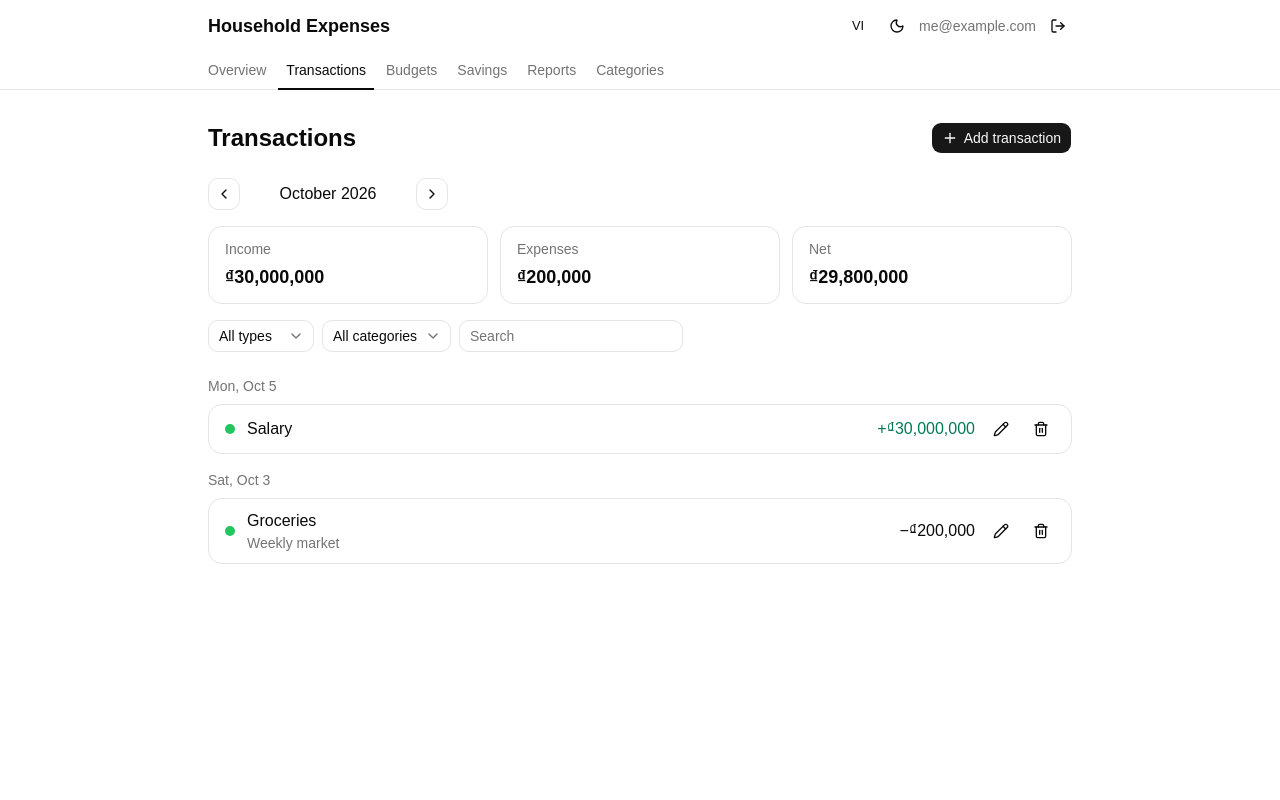
it: changing a transaction › prefills the form and saves changes
The image size is (1280, 800).
Click the button named "Edit Groceries" at [1001, 531], box [987,517,1015,545]
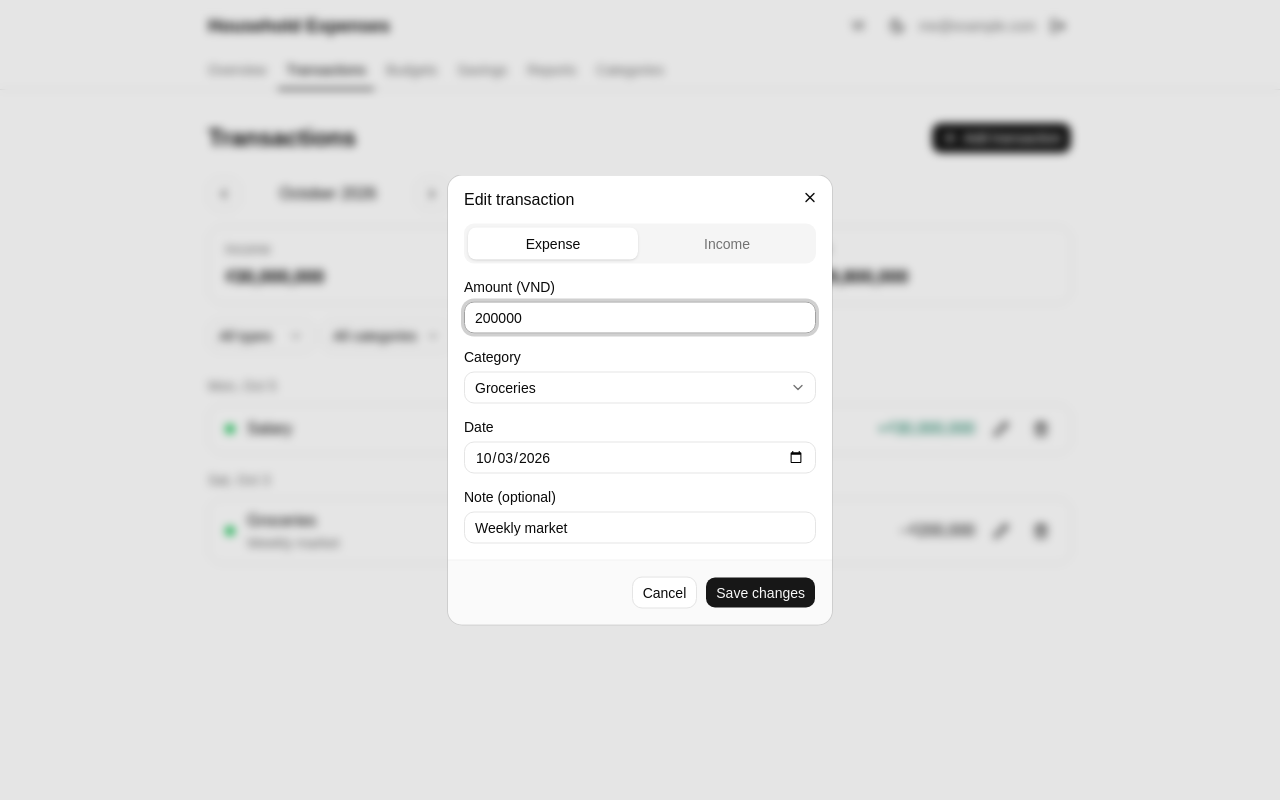
Result: the field labelled "Amount (VND)" holds "200000"
Result: the field labelled "Note (optional)" holds "Weekly market" at [464,512,816,544]
Result: the date field labelled "Date" holds "2026-10-03" at [464,442,816,474]
Replace the text in the field labelled "Amount (VND)" with "250000" at [640, 318], box [464,302,816,334]
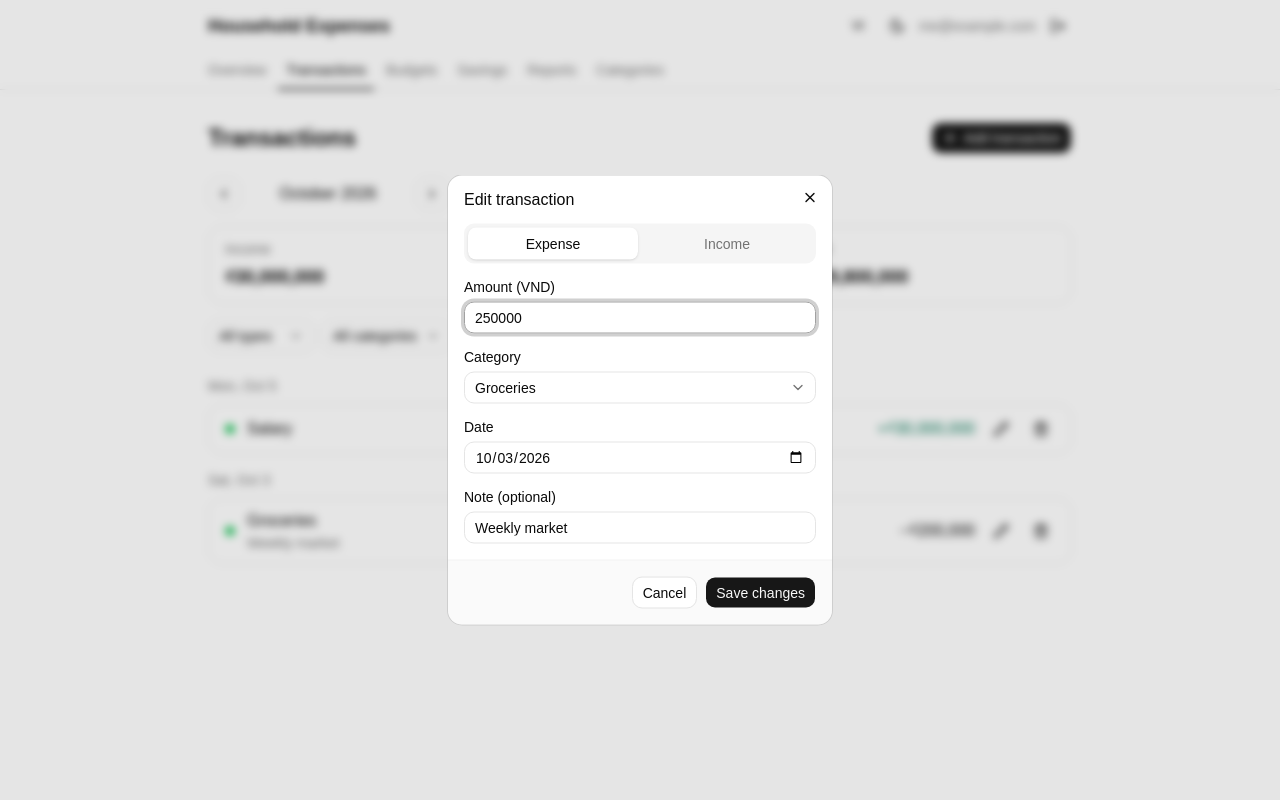
Click the button "Save changes" at [761, 592], box [705,576,816,608]
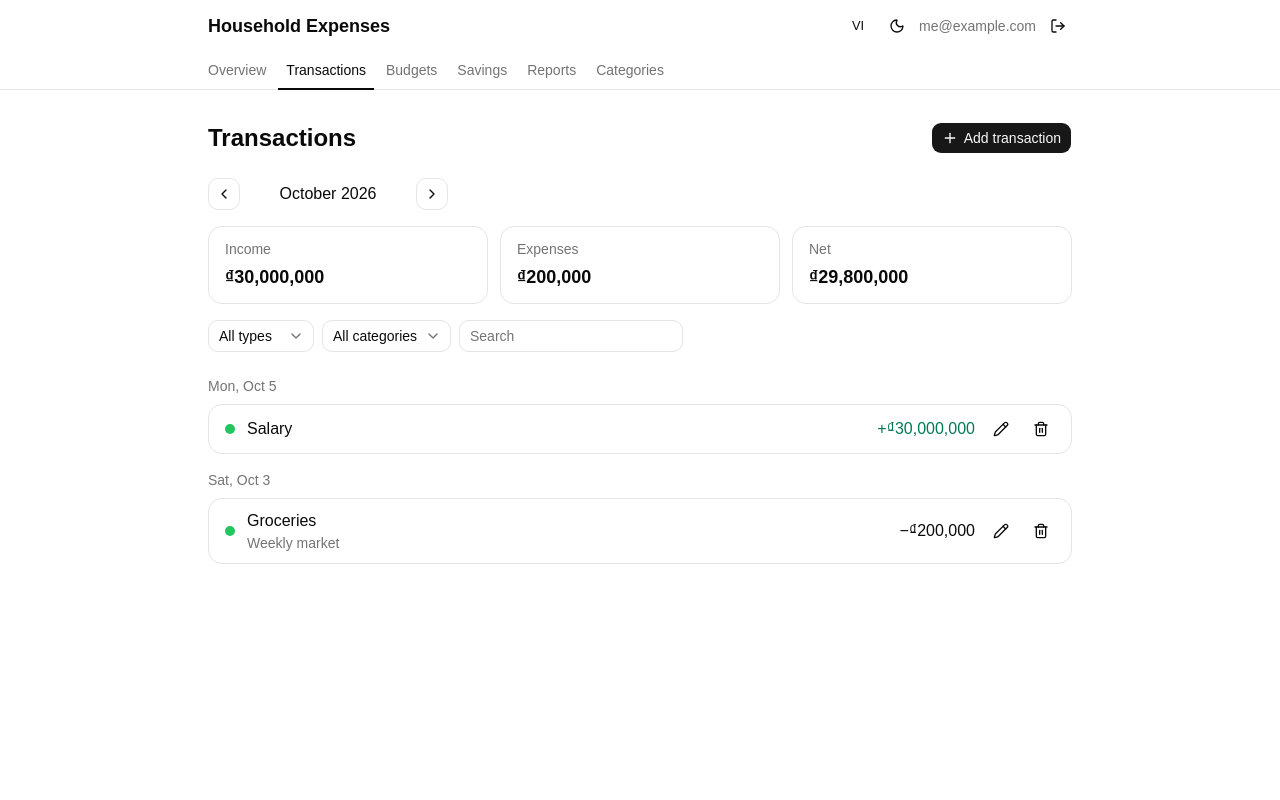
Result: the dialog is gone
